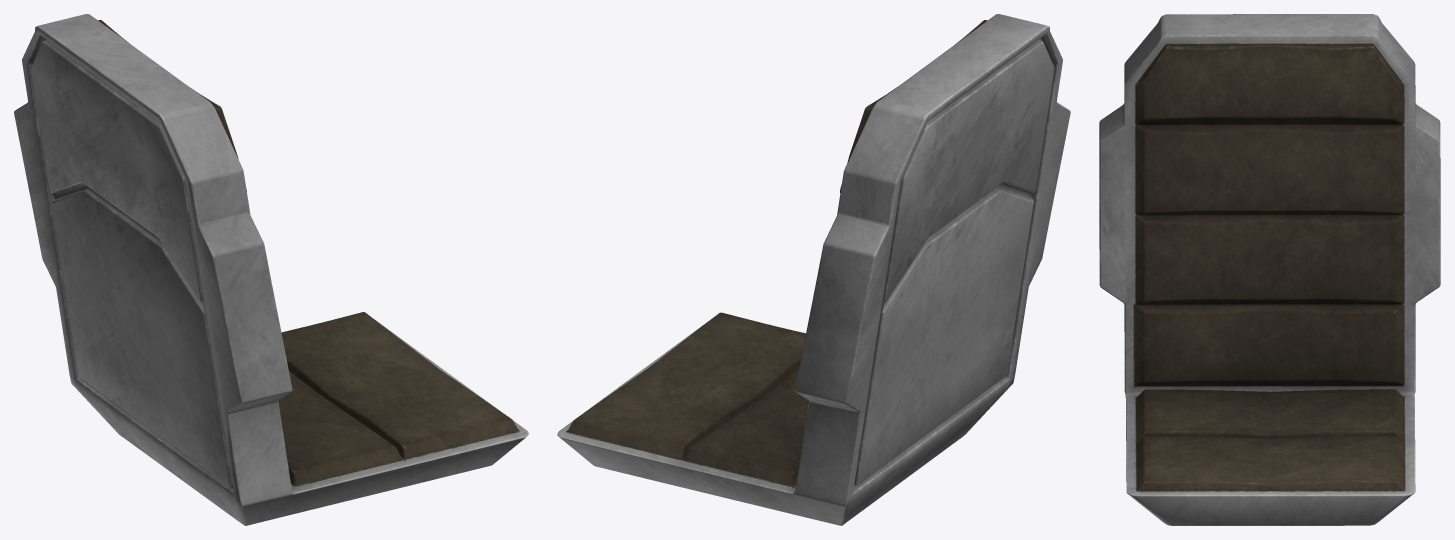
The model's file is EngineerRoom_SwivelChair_Top.fbx.
The picture shows the model from 3 angles, left to right: view 1: azimuth 30°, elevation 25°; view 2: azimuth 150°, elevation 25°; view 3: azimuth 270°, elevation 25°; orthographic projection. The views are drawn at different scales.
Parts seen in each view (by area): view 1: SwivelChair.007; view 2: SwivelChair.007; view 3: SwivelChair.007.
Part boxes in pixels (x1,y1,x2,y2): SwivelChair.007: [14, 14, 528, 525]; SwivelChair.007: [557, 14, 1070, 525]; SwivelChair.007: [1099, 14, 1440, 525].
Size of the model in its own units: 66.28 by 79.57 by 67.85.
